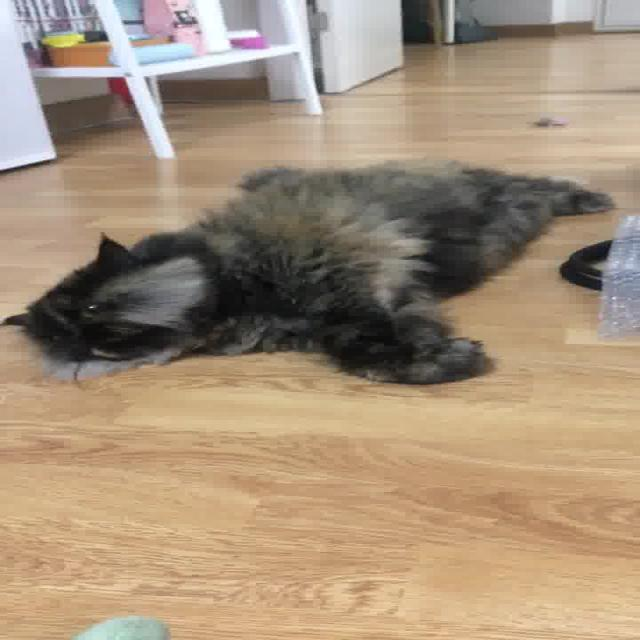cat: (0, 126, 627, 402)
